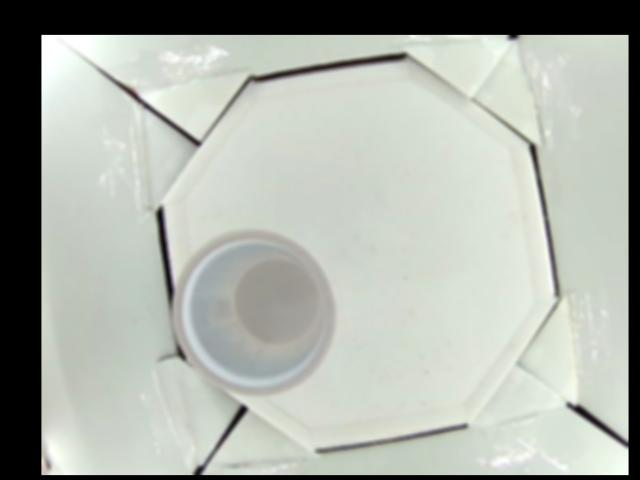Cup: (171, 228, 338, 395)
